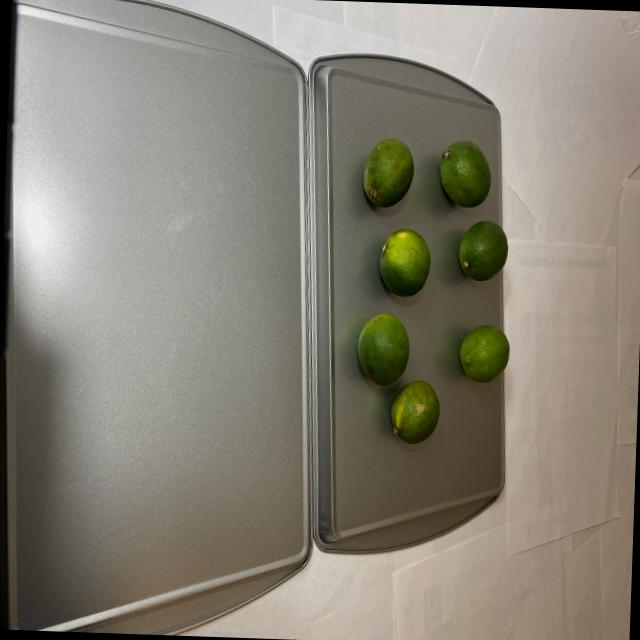lemon: (352, 126, 514, 450)
